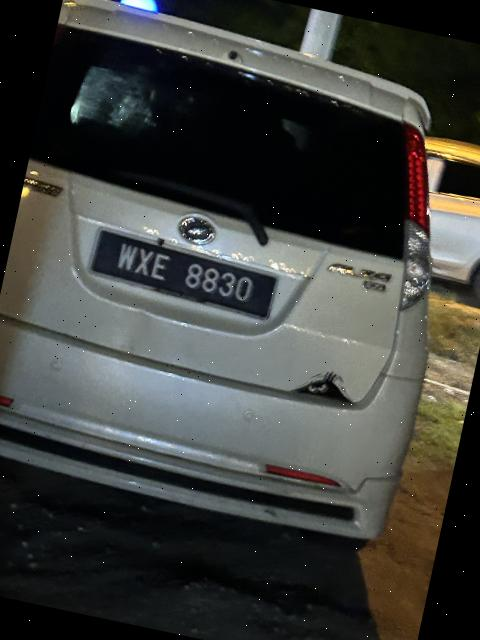License_Plate: (84, 219, 287, 325)
car: (1, 1, 480, 556)
